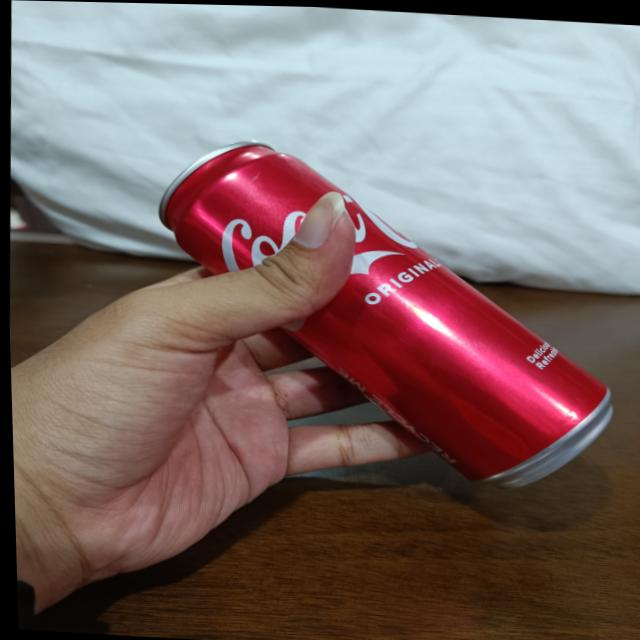coke: (155, 137, 622, 478)
